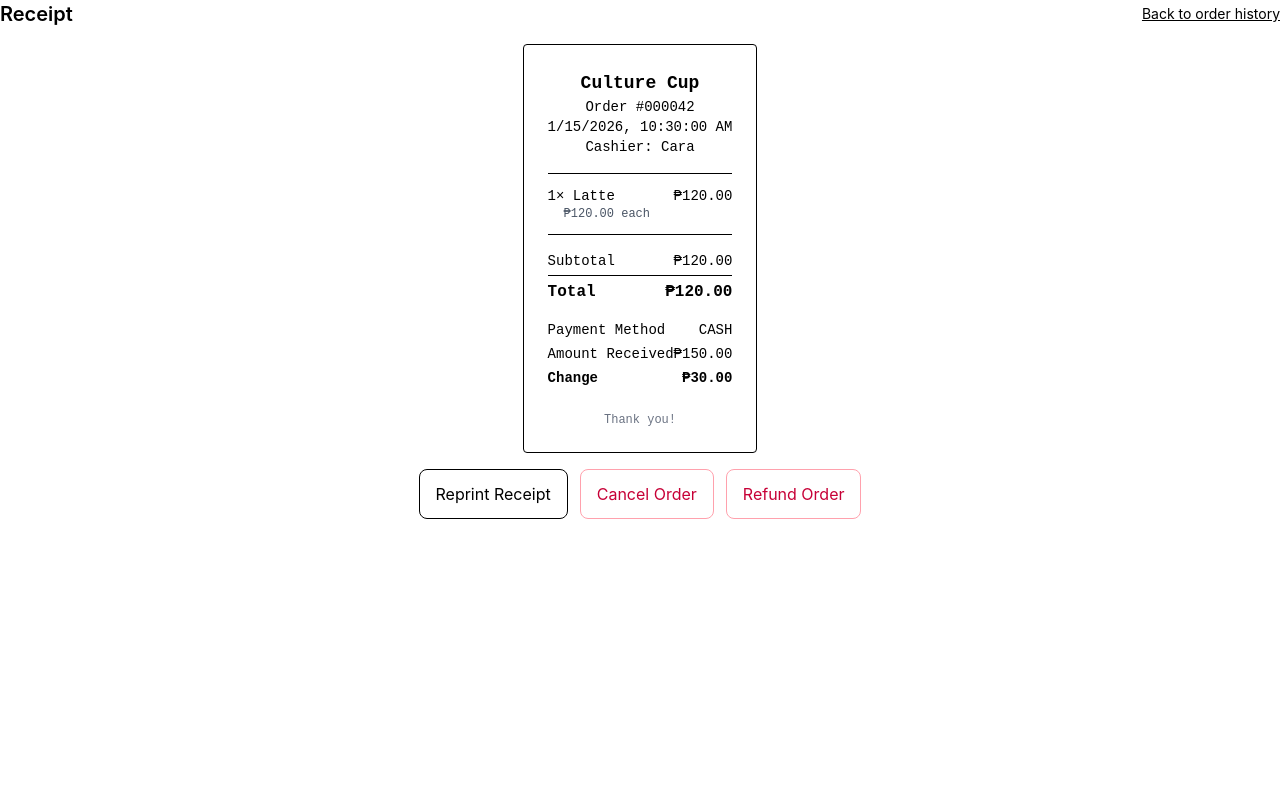
Test case: OrderDetailPage › shows an error inside the dialog (not hidden behind it) and keeps the dialog open on failure
Check: the text "Order #000042" is shown, box [585, 99, 695, 115]
Click the button "Cancel Order" at [647, 494], box [580, 469, 714, 519]
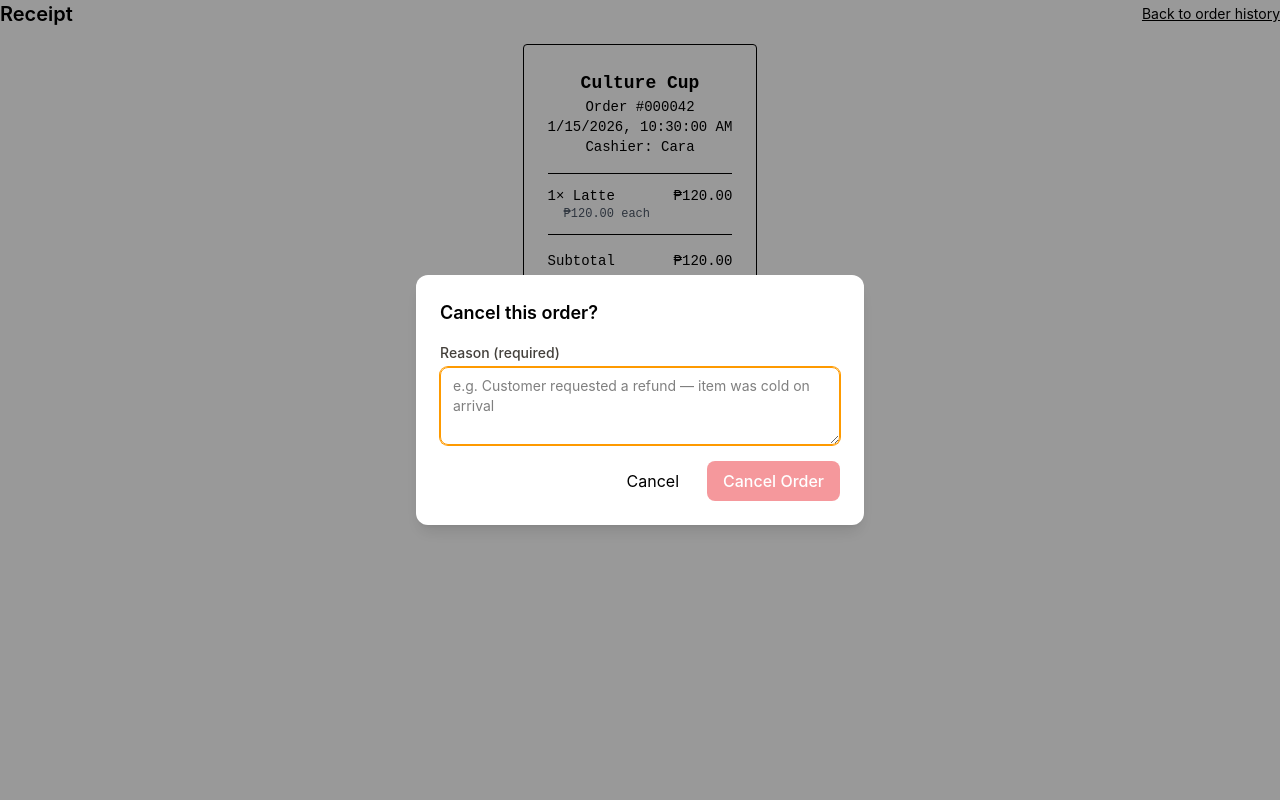
Type "Trying to cancel twice" into the text box with placeholder "e.g. Customer requested a refund — item was cold on arrival" at [640, 406], box [440, 367, 840, 445]
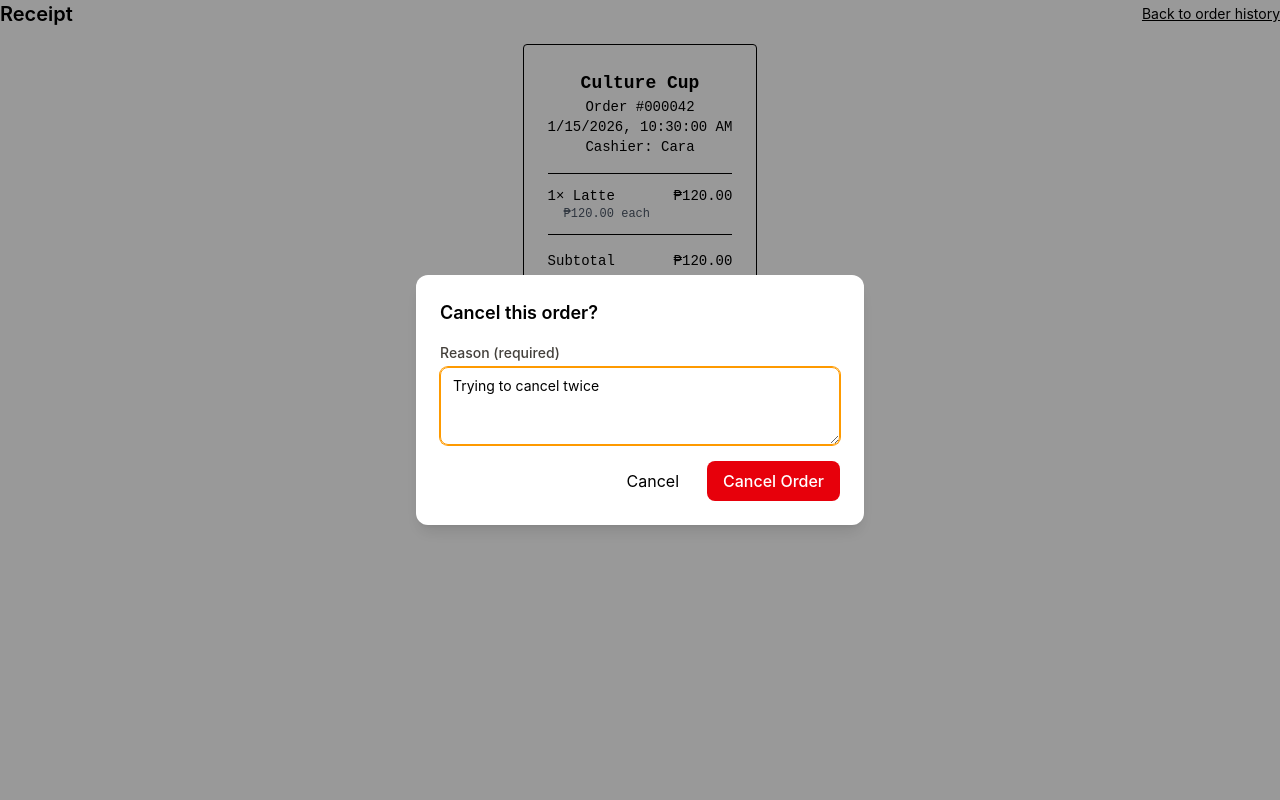
Click the button "Cancel Order" at [774, 481], box [707, 461, 840, 501]
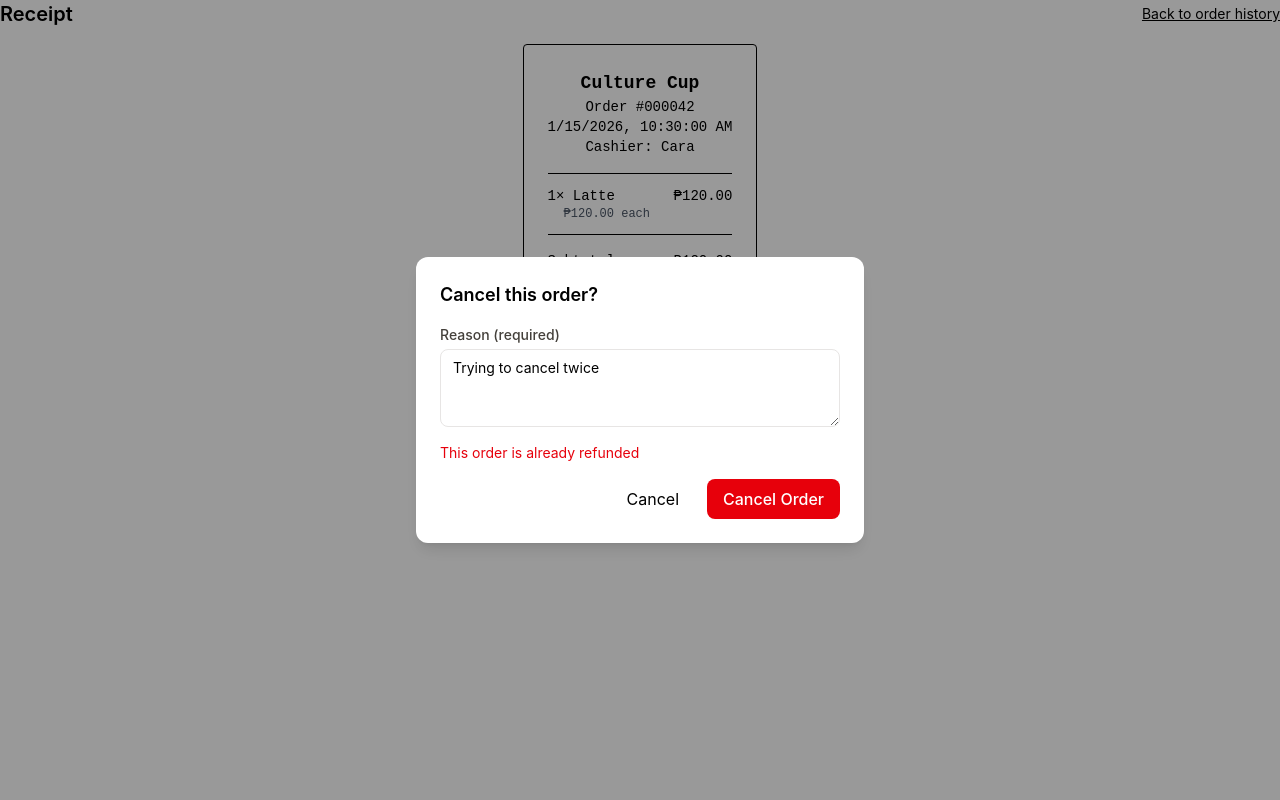
Check: the dialog is shown
Check: the message reads "This order is already refunded", box [440, 444, 639, 461]
